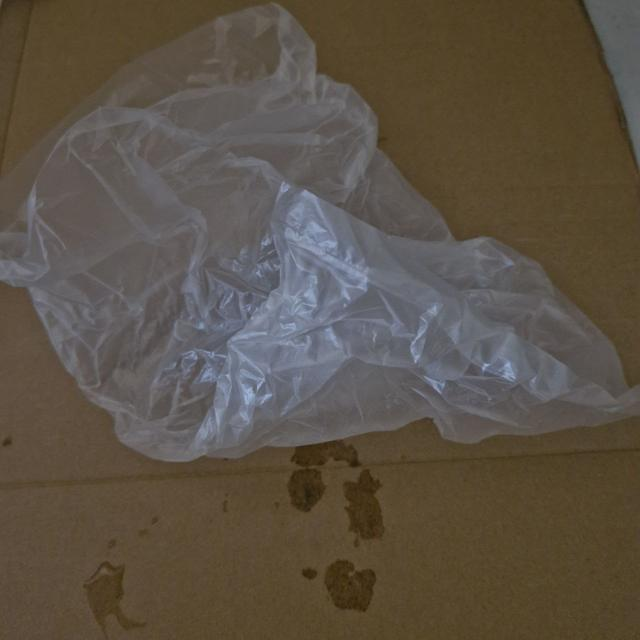plastic: (16, 9, 634, 463)
